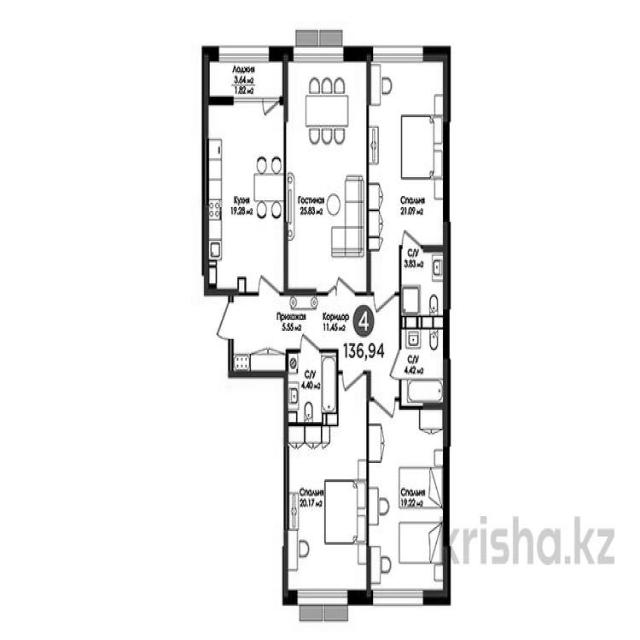balcony: (206, 53, 287, 102)
bathroom: (286, 347, 340, 427), (399, 323, 448, 410), (401, 248, 448, 318)
hallway: (231, 294, 400, 352)
kitchen: (204, 101, 286, 294)
living_room: (288, 52, 370, 294), (367, 57, 449, 250), (368, 407, 448, 595), (285, 424, 368, 594)
